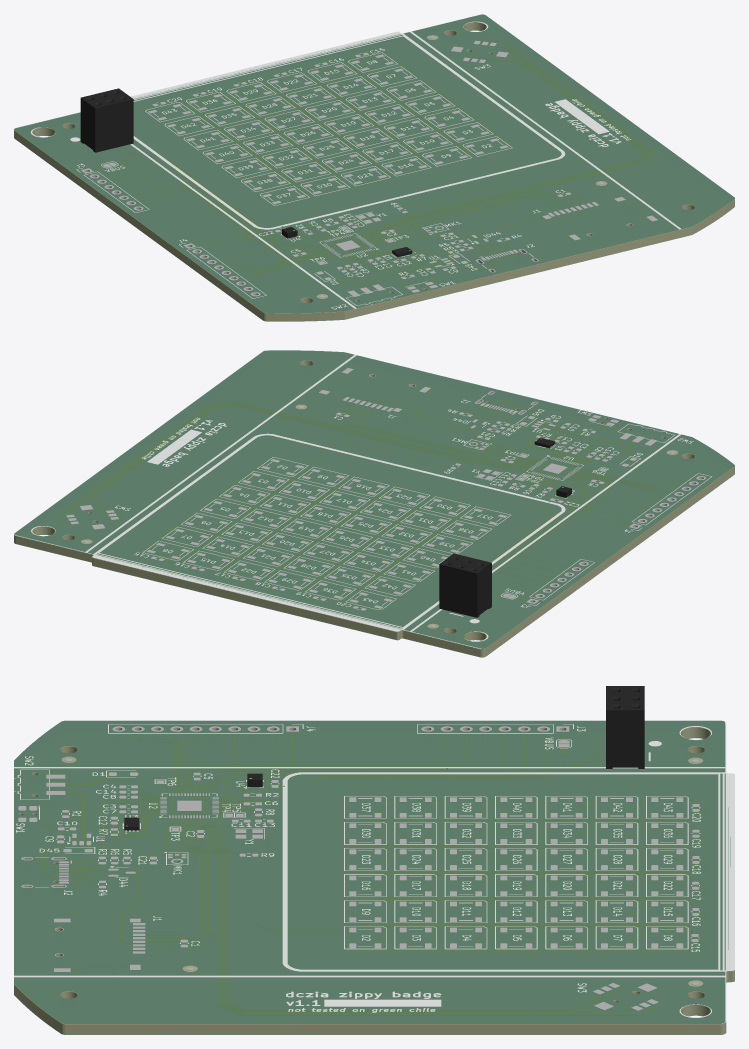
File: zippy.glb
The picture shows the model from 3 angles, top to bottom: view 1: azimuth 30°, elevation 25°; view 2: azimuth 150°, elevation 25°; view 3: azimuth 270°, elevation 25°; orthographic projection. The views are drawn at different scales.
Parts seen in each view (by area): view 1: =>[0:1:1:11], =>[0:1:1:3]; view 2: =>[0:1:1:11], =>[0:1:1:3]; view 3: =>[0:1:1:11], =>[0:1:1:3].
Part boxes in pixels (bbox=[...]): =>[0:1:1:11]: bbox=[14, 14, 734, 321]; =>[0:1:1:3]: bbox=[80, 36, 657, 297]; =>[0:1:1:11]: bbox=[14, 350, 734, 657]; =>[0:1:1:3]: bbox=[58, 368, 705, 627]; =>[0:1:1:11]: bbox=[14, 720, 734, 1034]; =>[0:1:1:3]: bbox=[18, 686, 706, 1013].
Size of the model in its own units: 0.0944 by 0.0116 by 0.0949.
2 materials, 2 textured.
